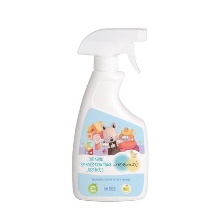cleaning_solution: (68, 24, 150, 205)
